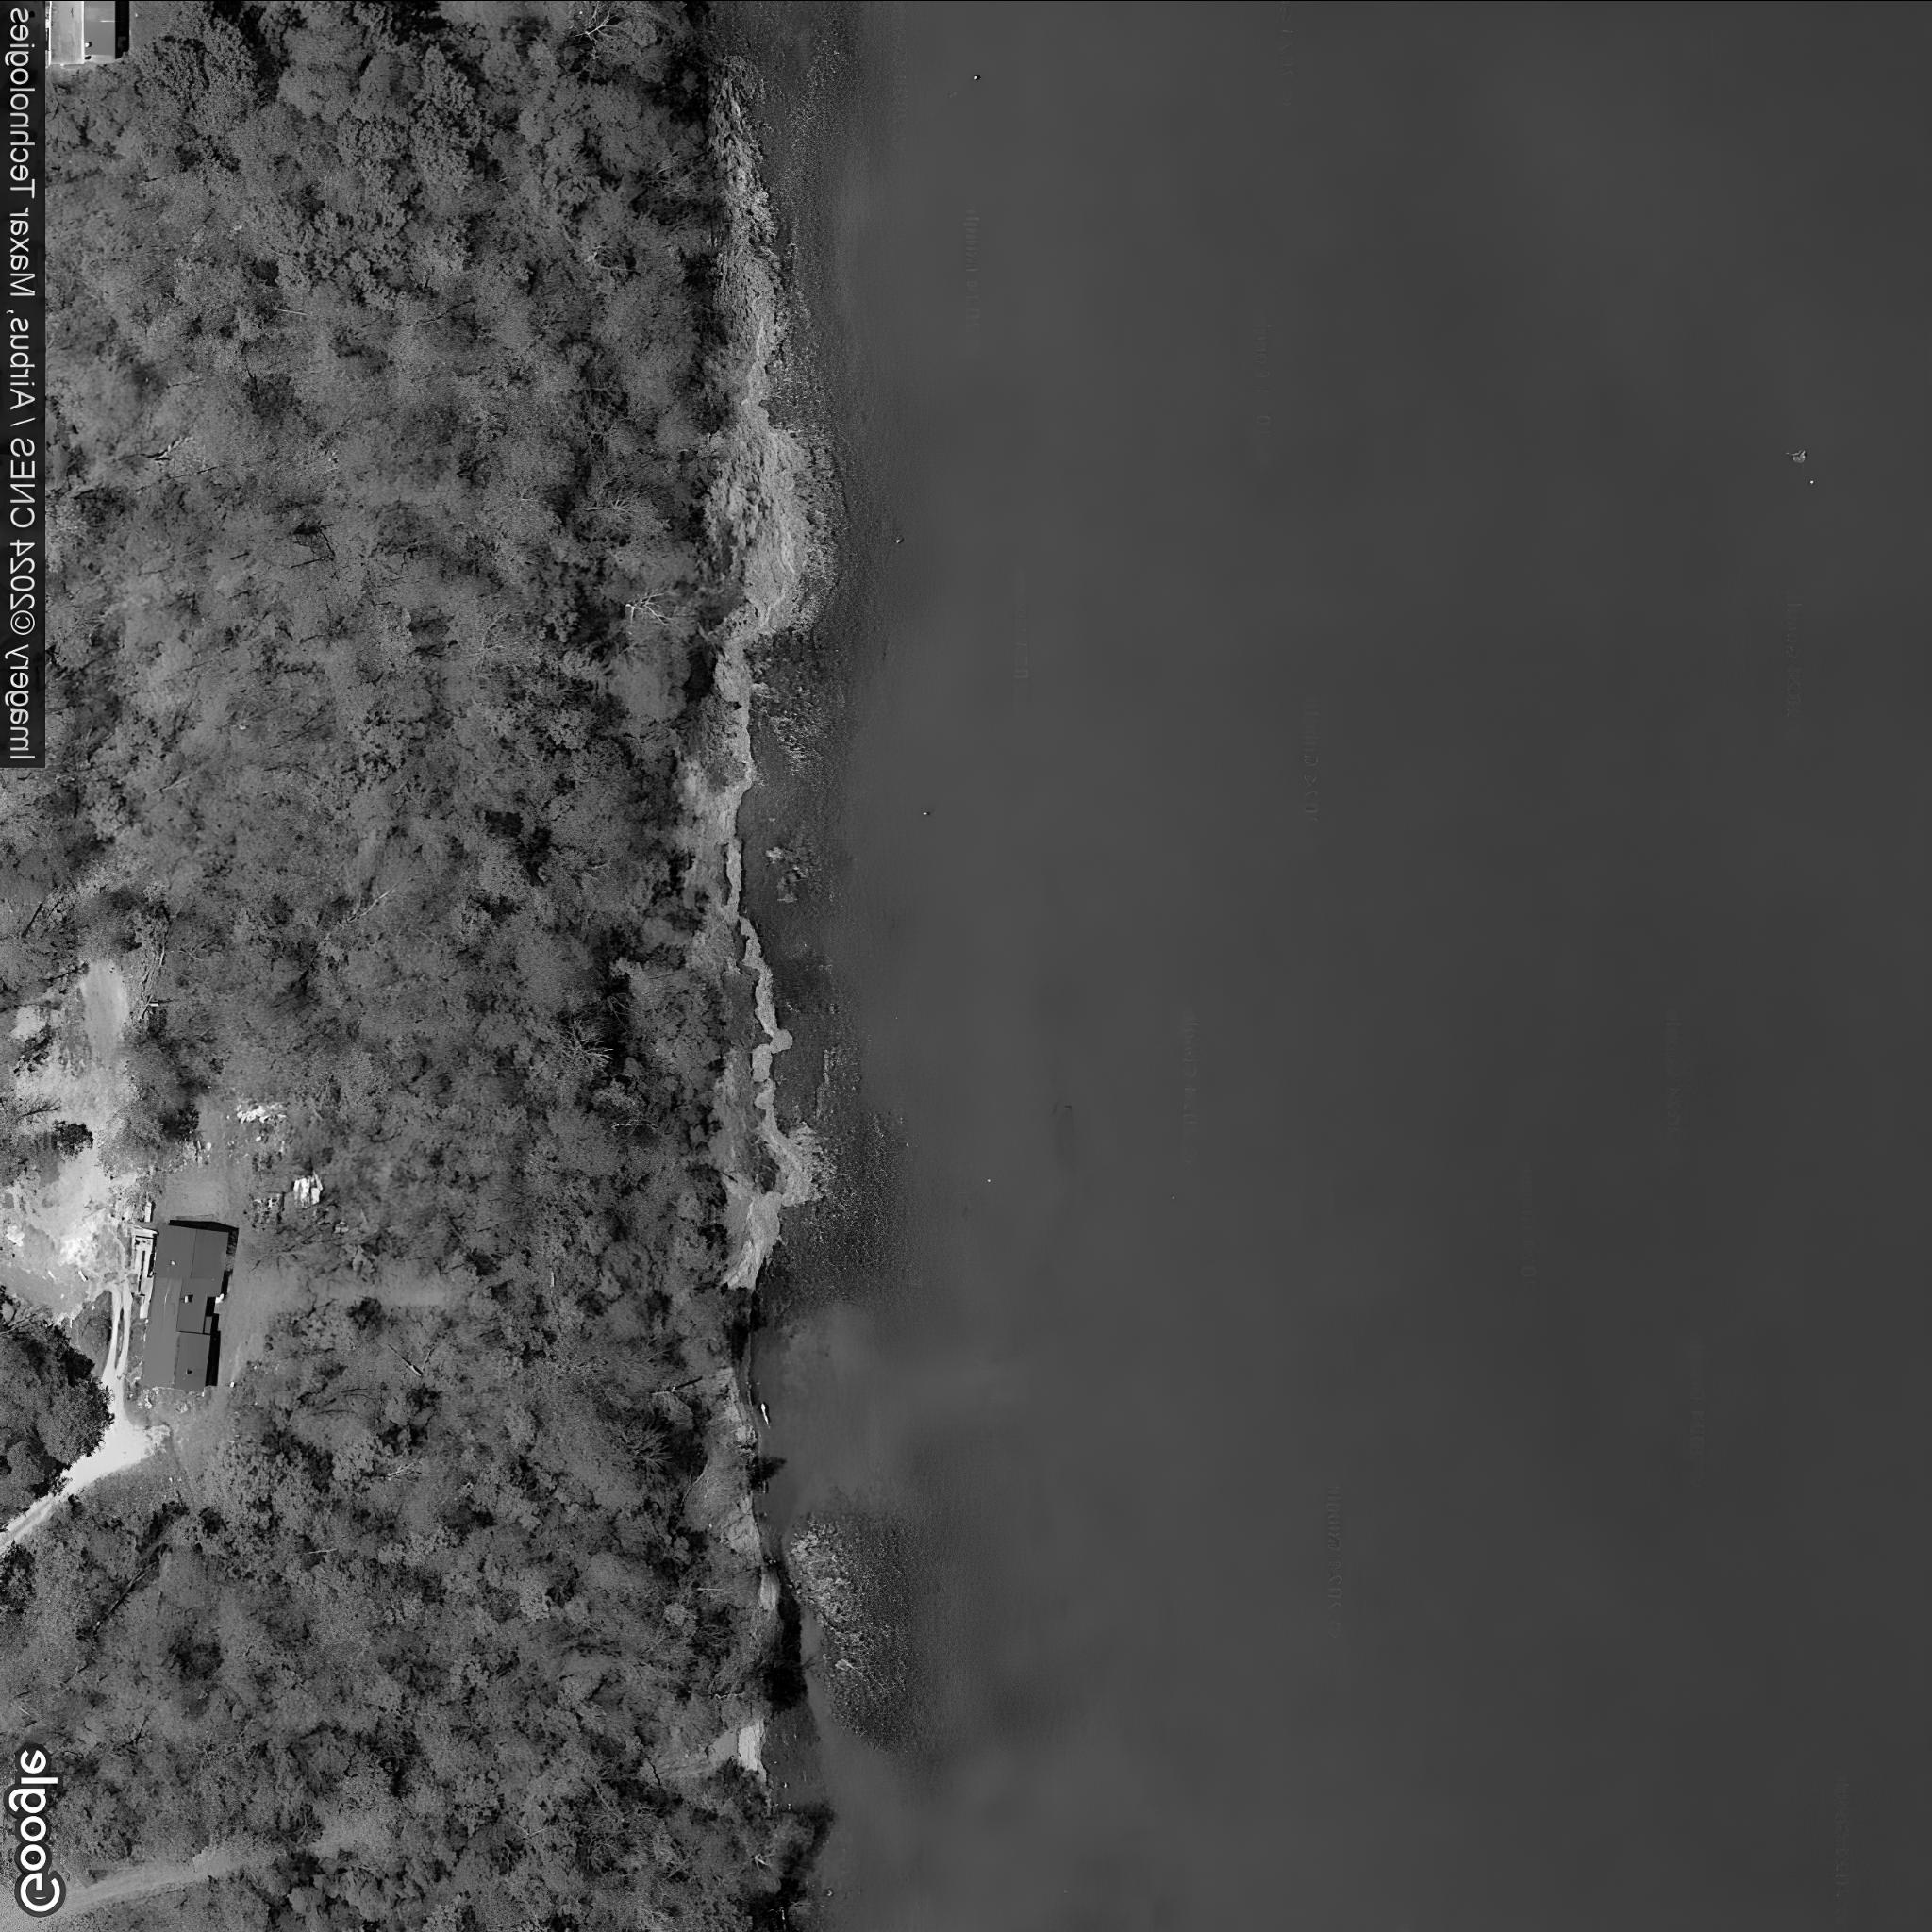House: (140, 1224, 230, 1391), (48, 0, 117, 65)
